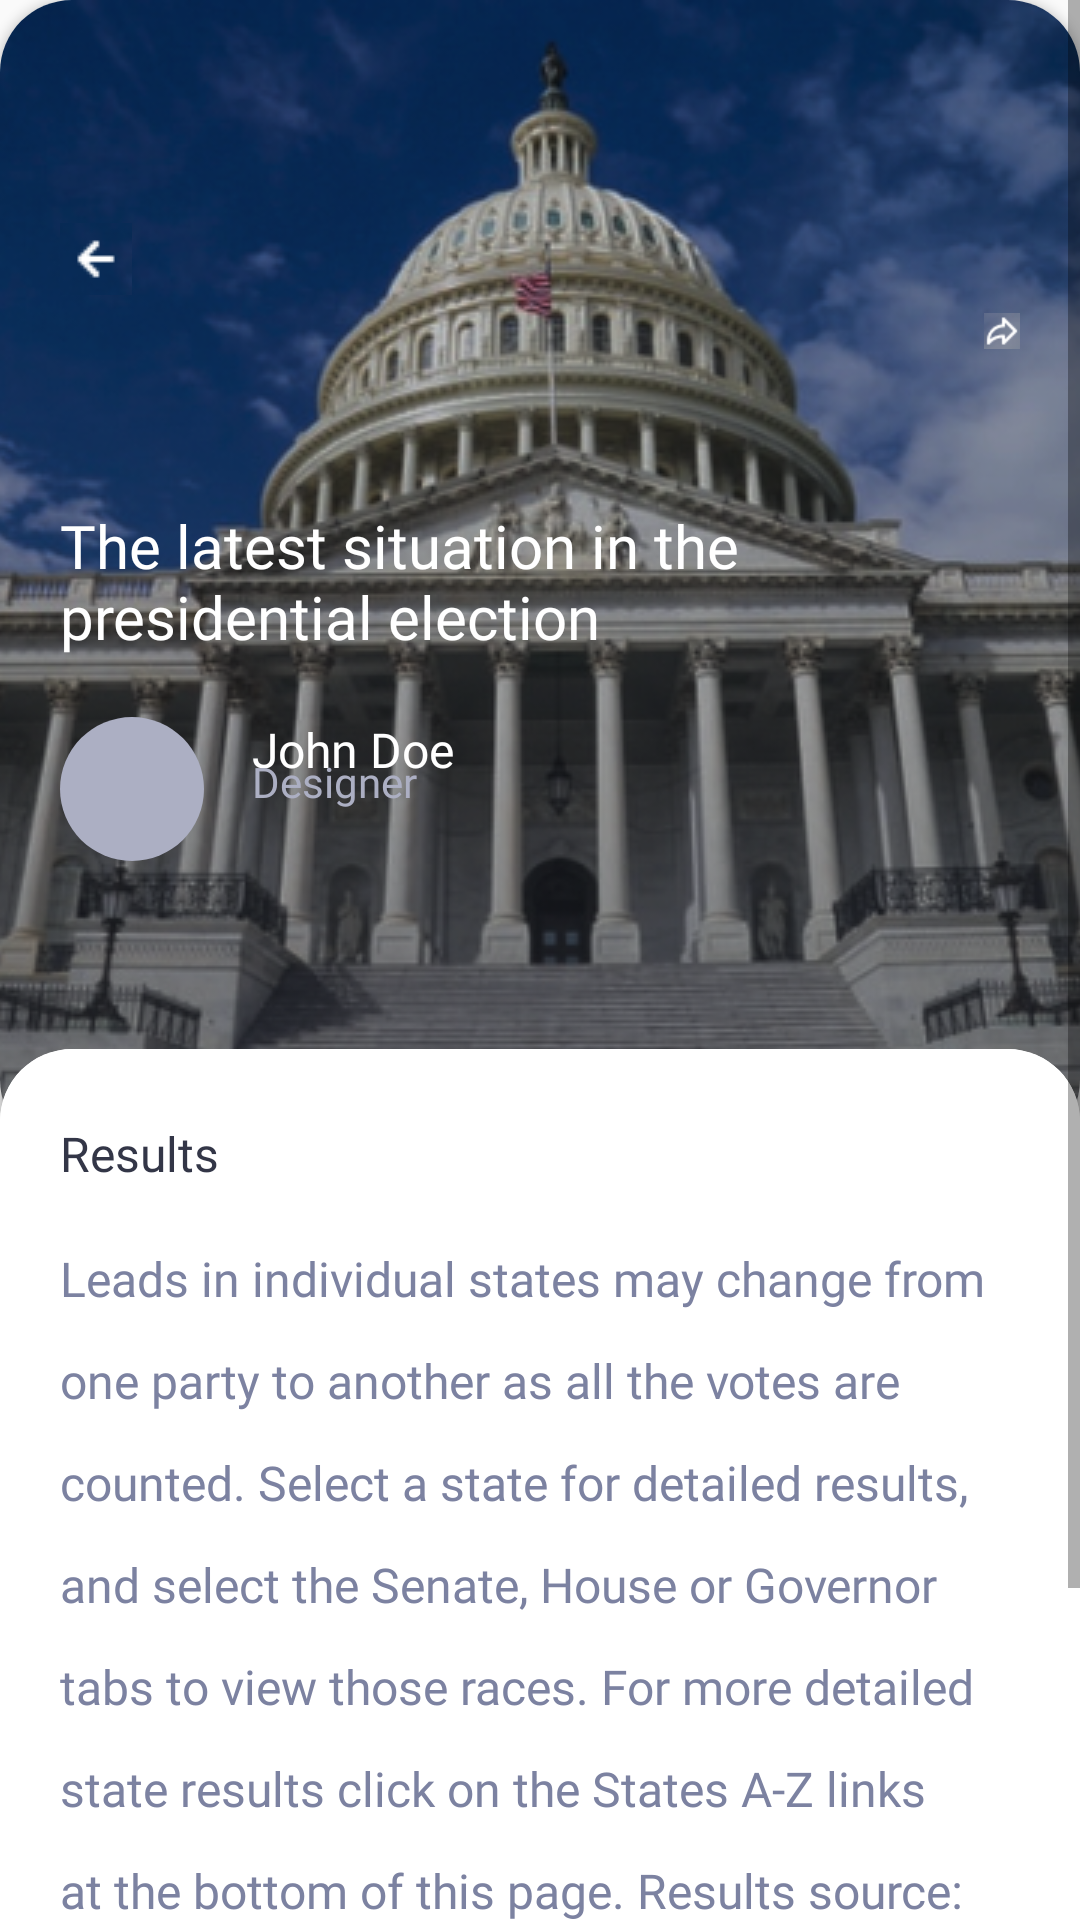

Icons on this 1080×1920 Android screen, each with its box as box=[x1, y1, x2, y2]:
back: box=[77, 240, 115, 278]
share: box=[984, 313, 1020, 367]
